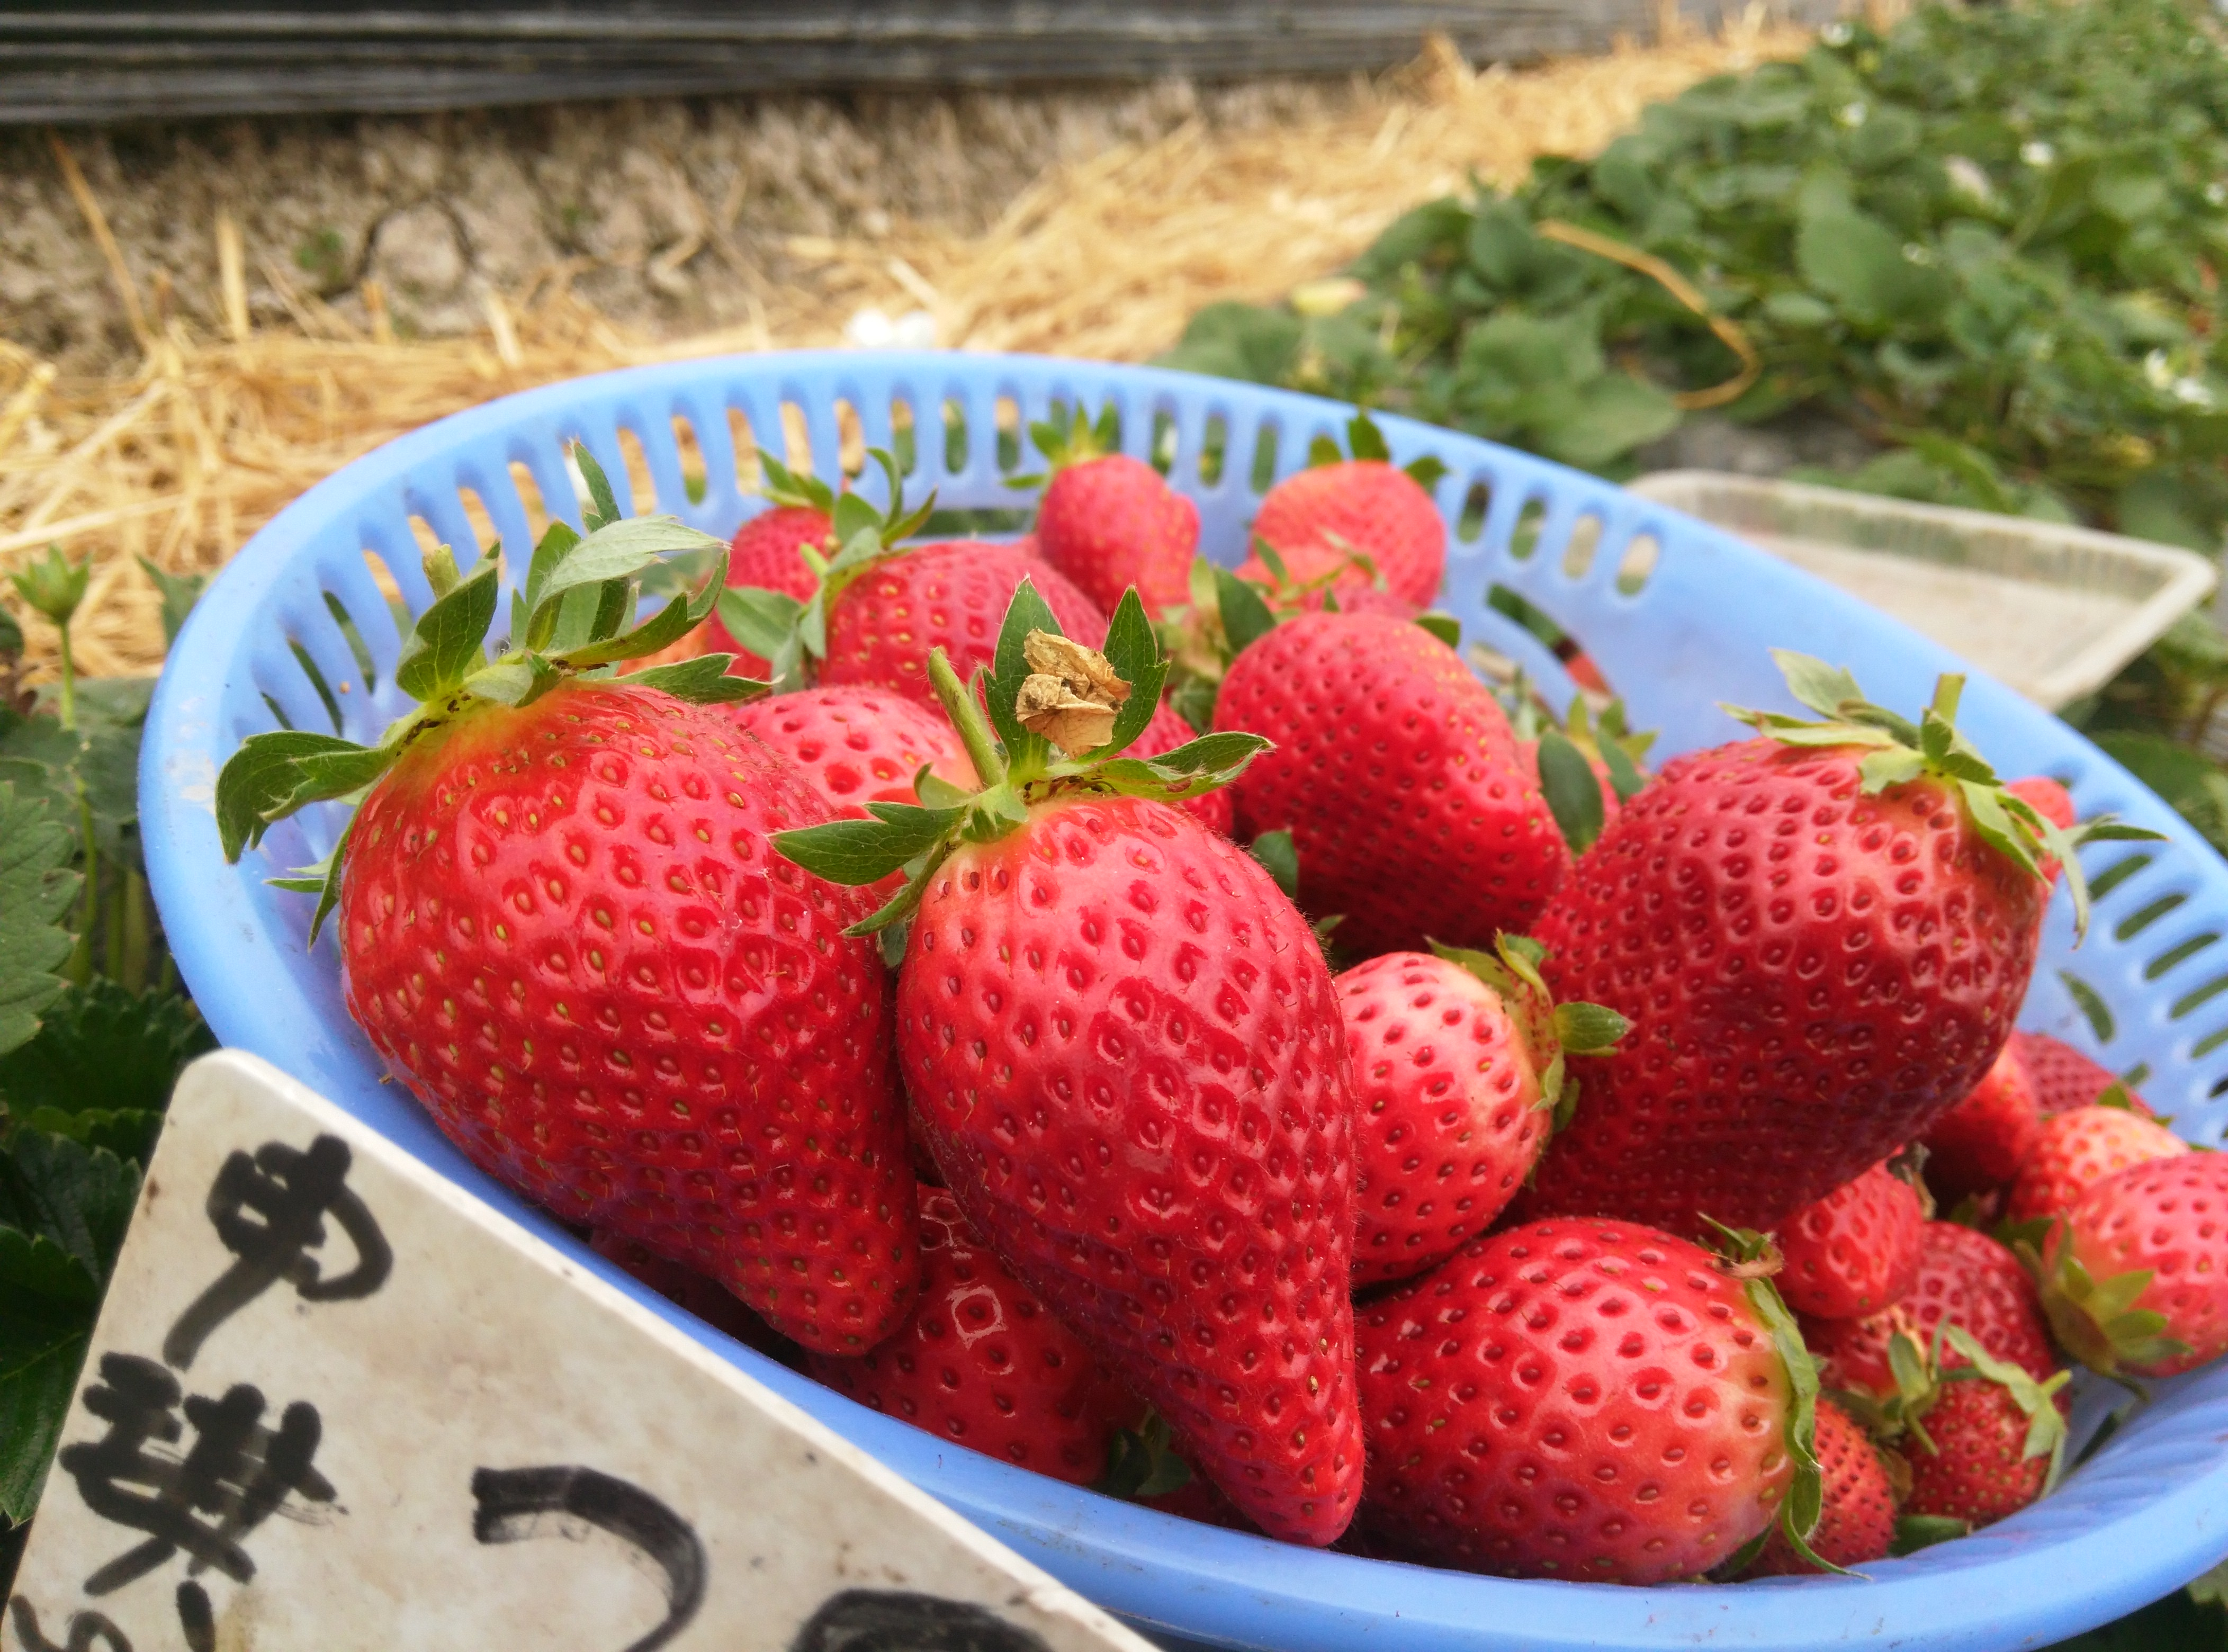StrawberryCone: (335, 689, 909, 1319), (911, 790, 1347, 1504), (1569, 724, 2032, 1215), (1352, 1249, 1825, 1572), (1202, 593, 1565, 918), (1303, 947, 1563, 1260), (833, 519, 1150, 746), (1232, 418, 1470, 593), (1024, 423, 1201, 628), (2039, 1154, 2169, 1421)
StrawberryRemovable: (344, 696, 902, 1319), (927, 796, 1345, 1499), (1576, 734, 2023, 1209), (1359, 1249, 1822, 1570), (1215, 606, 1562, 906), (1310, 958, 1565, 1249), (842, 528, 1143, 744), (1248, 427, 1456, 588), (1029, 432, 1199, 616), (2046, 1159, 2166, 1414)
